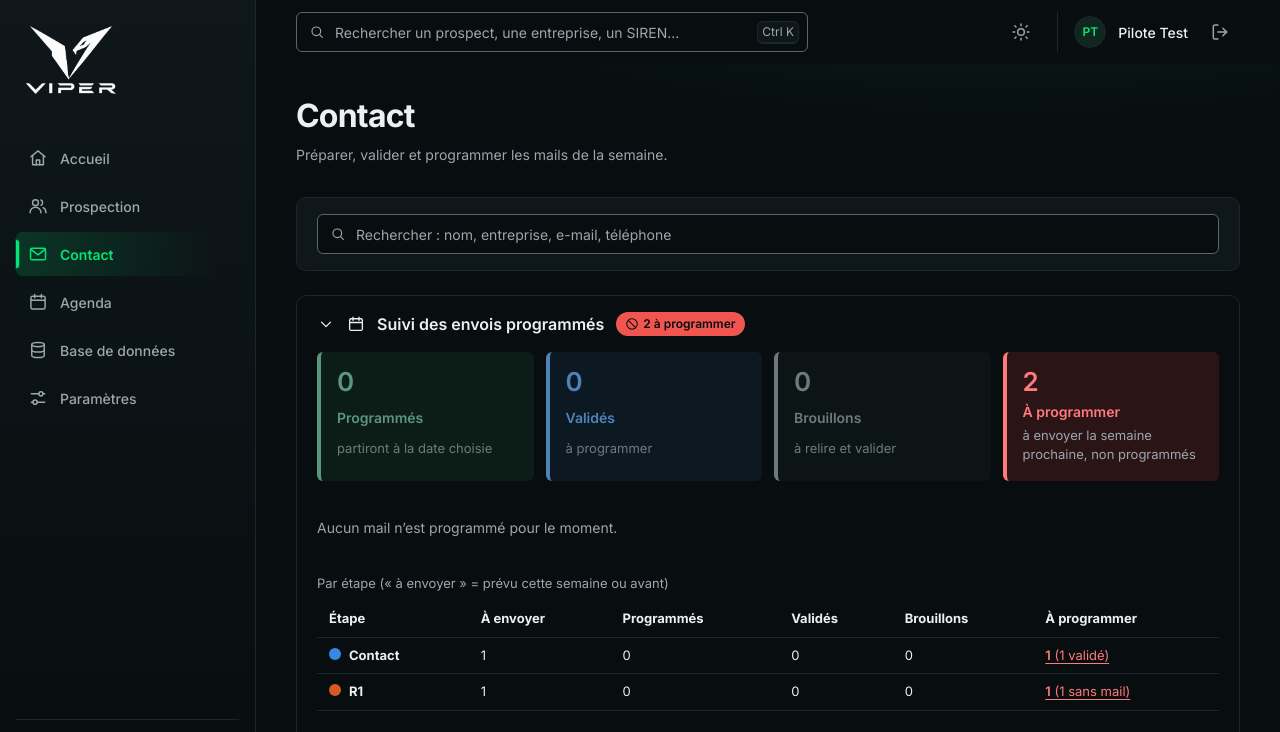
Test case: Contact › Suivi des envois programmés › opens the list behind a count of the table, for that step only
Click the button with aria-label "À programmer R1 : 1, voir la liste".
click(1088, 692)  # box [1045,682,1130,702]
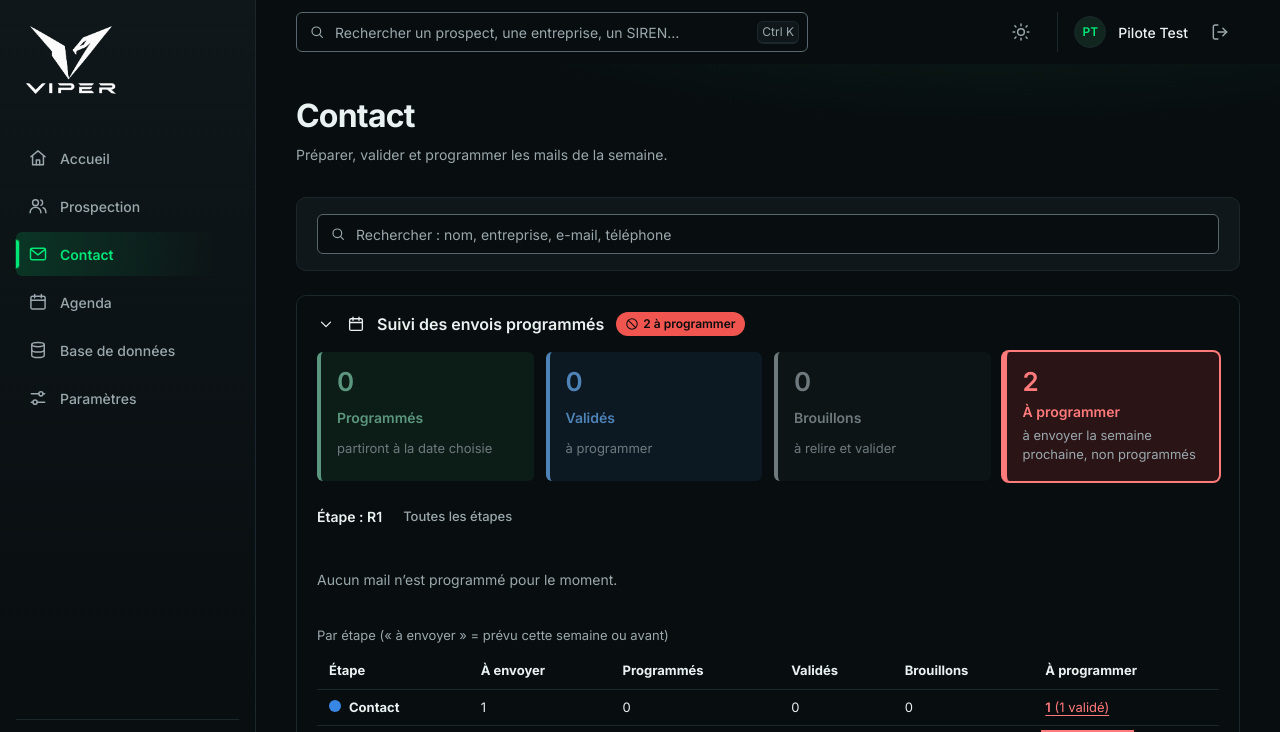
Expected: the link "Jean Exemple" is not shown
Now the text "Étape : R1 Toutes les étapes" is shown, box [317,501,525,533]
Click the button "Toutes les étapes".
click(458, 517)  # box [390,501,525,533]
(page scrolled)
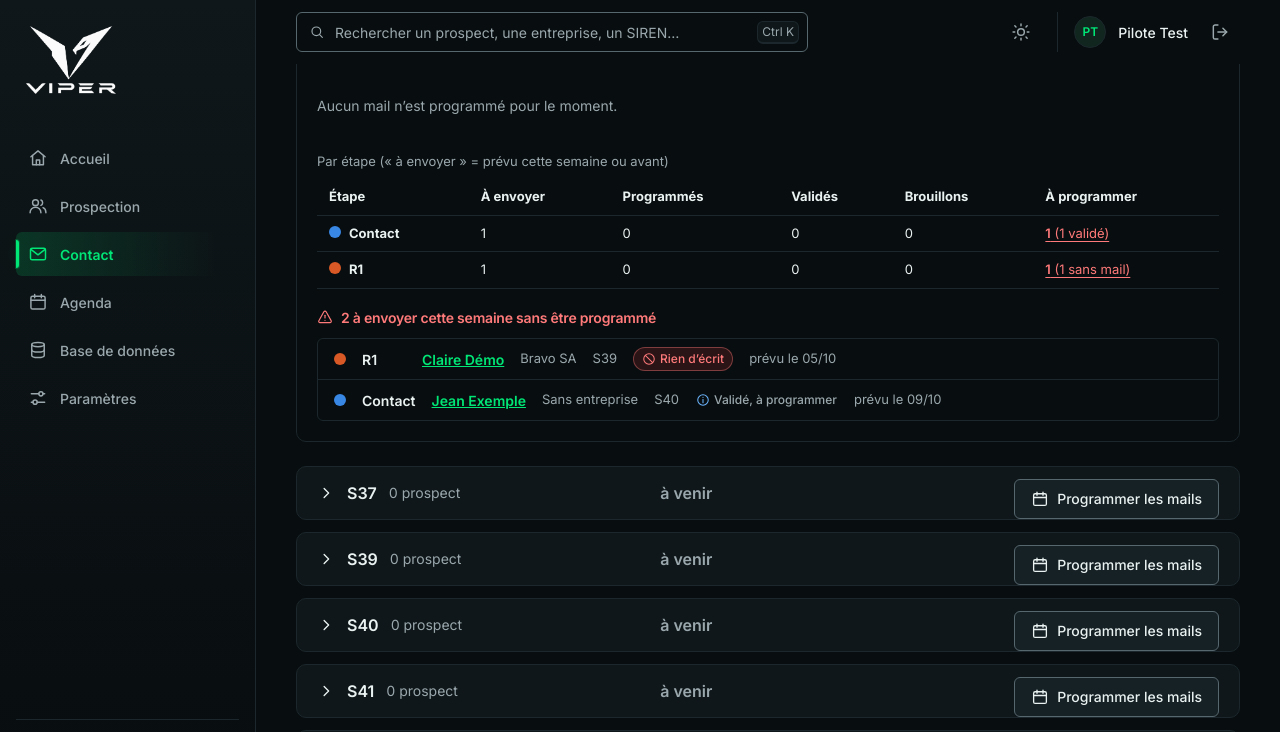
Now the link "Jean Exemple" is shown, box [432,390,526,411]
